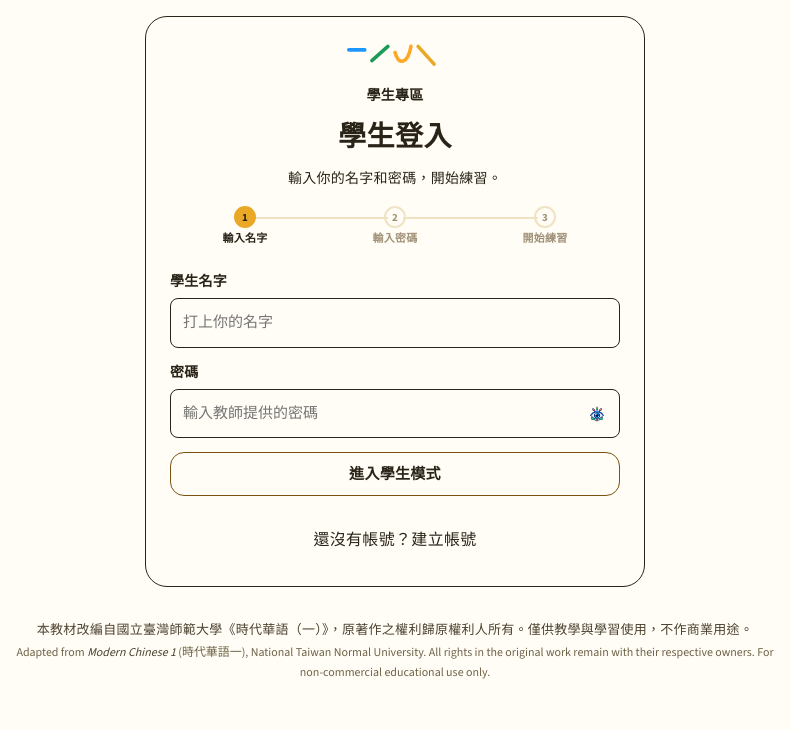
StudentLoginPage › shows a reset-required message for a 403 with a reset-password detail
Type "Student 42" into the field with placeholder "打上你的名字" at coordinates (395, 323), box 170,298 -> 620,348
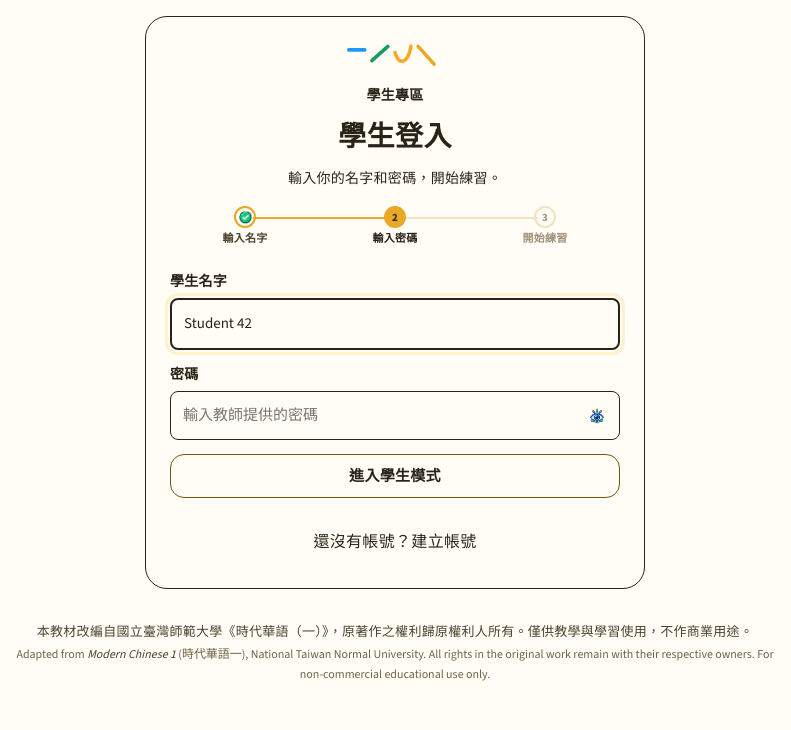
Type "123456" into the password field with placeholder "輸入教師提供的密碼" at coordinates (395, 416), box 170,391 -> 620,440
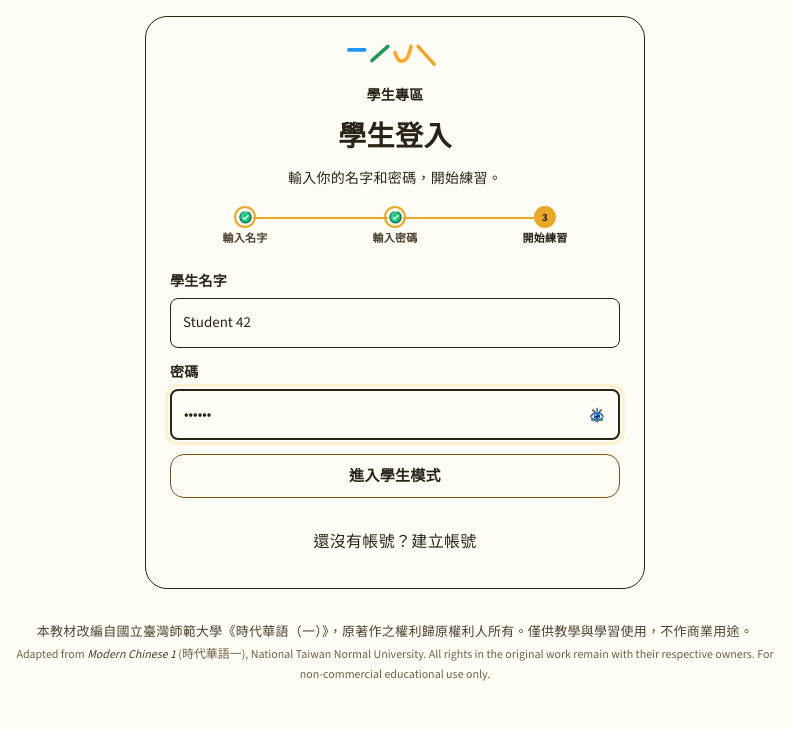
Click the button "進入學生模式" at coordinates (395, 476), box 170,454 -> 620,498
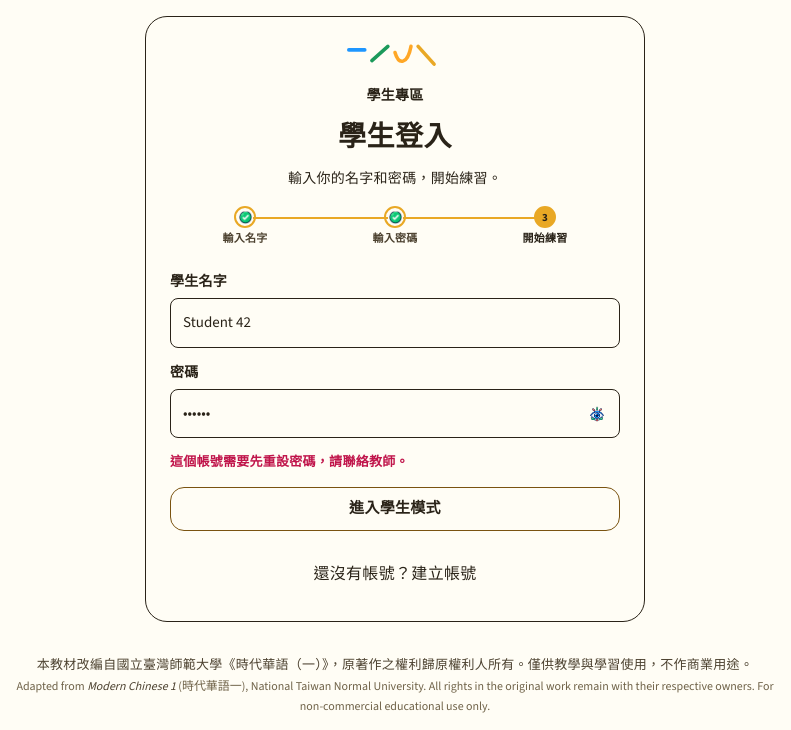
Expected: the message shows "這個帳號需要先重設密碼", 170,454 -> 409,470
